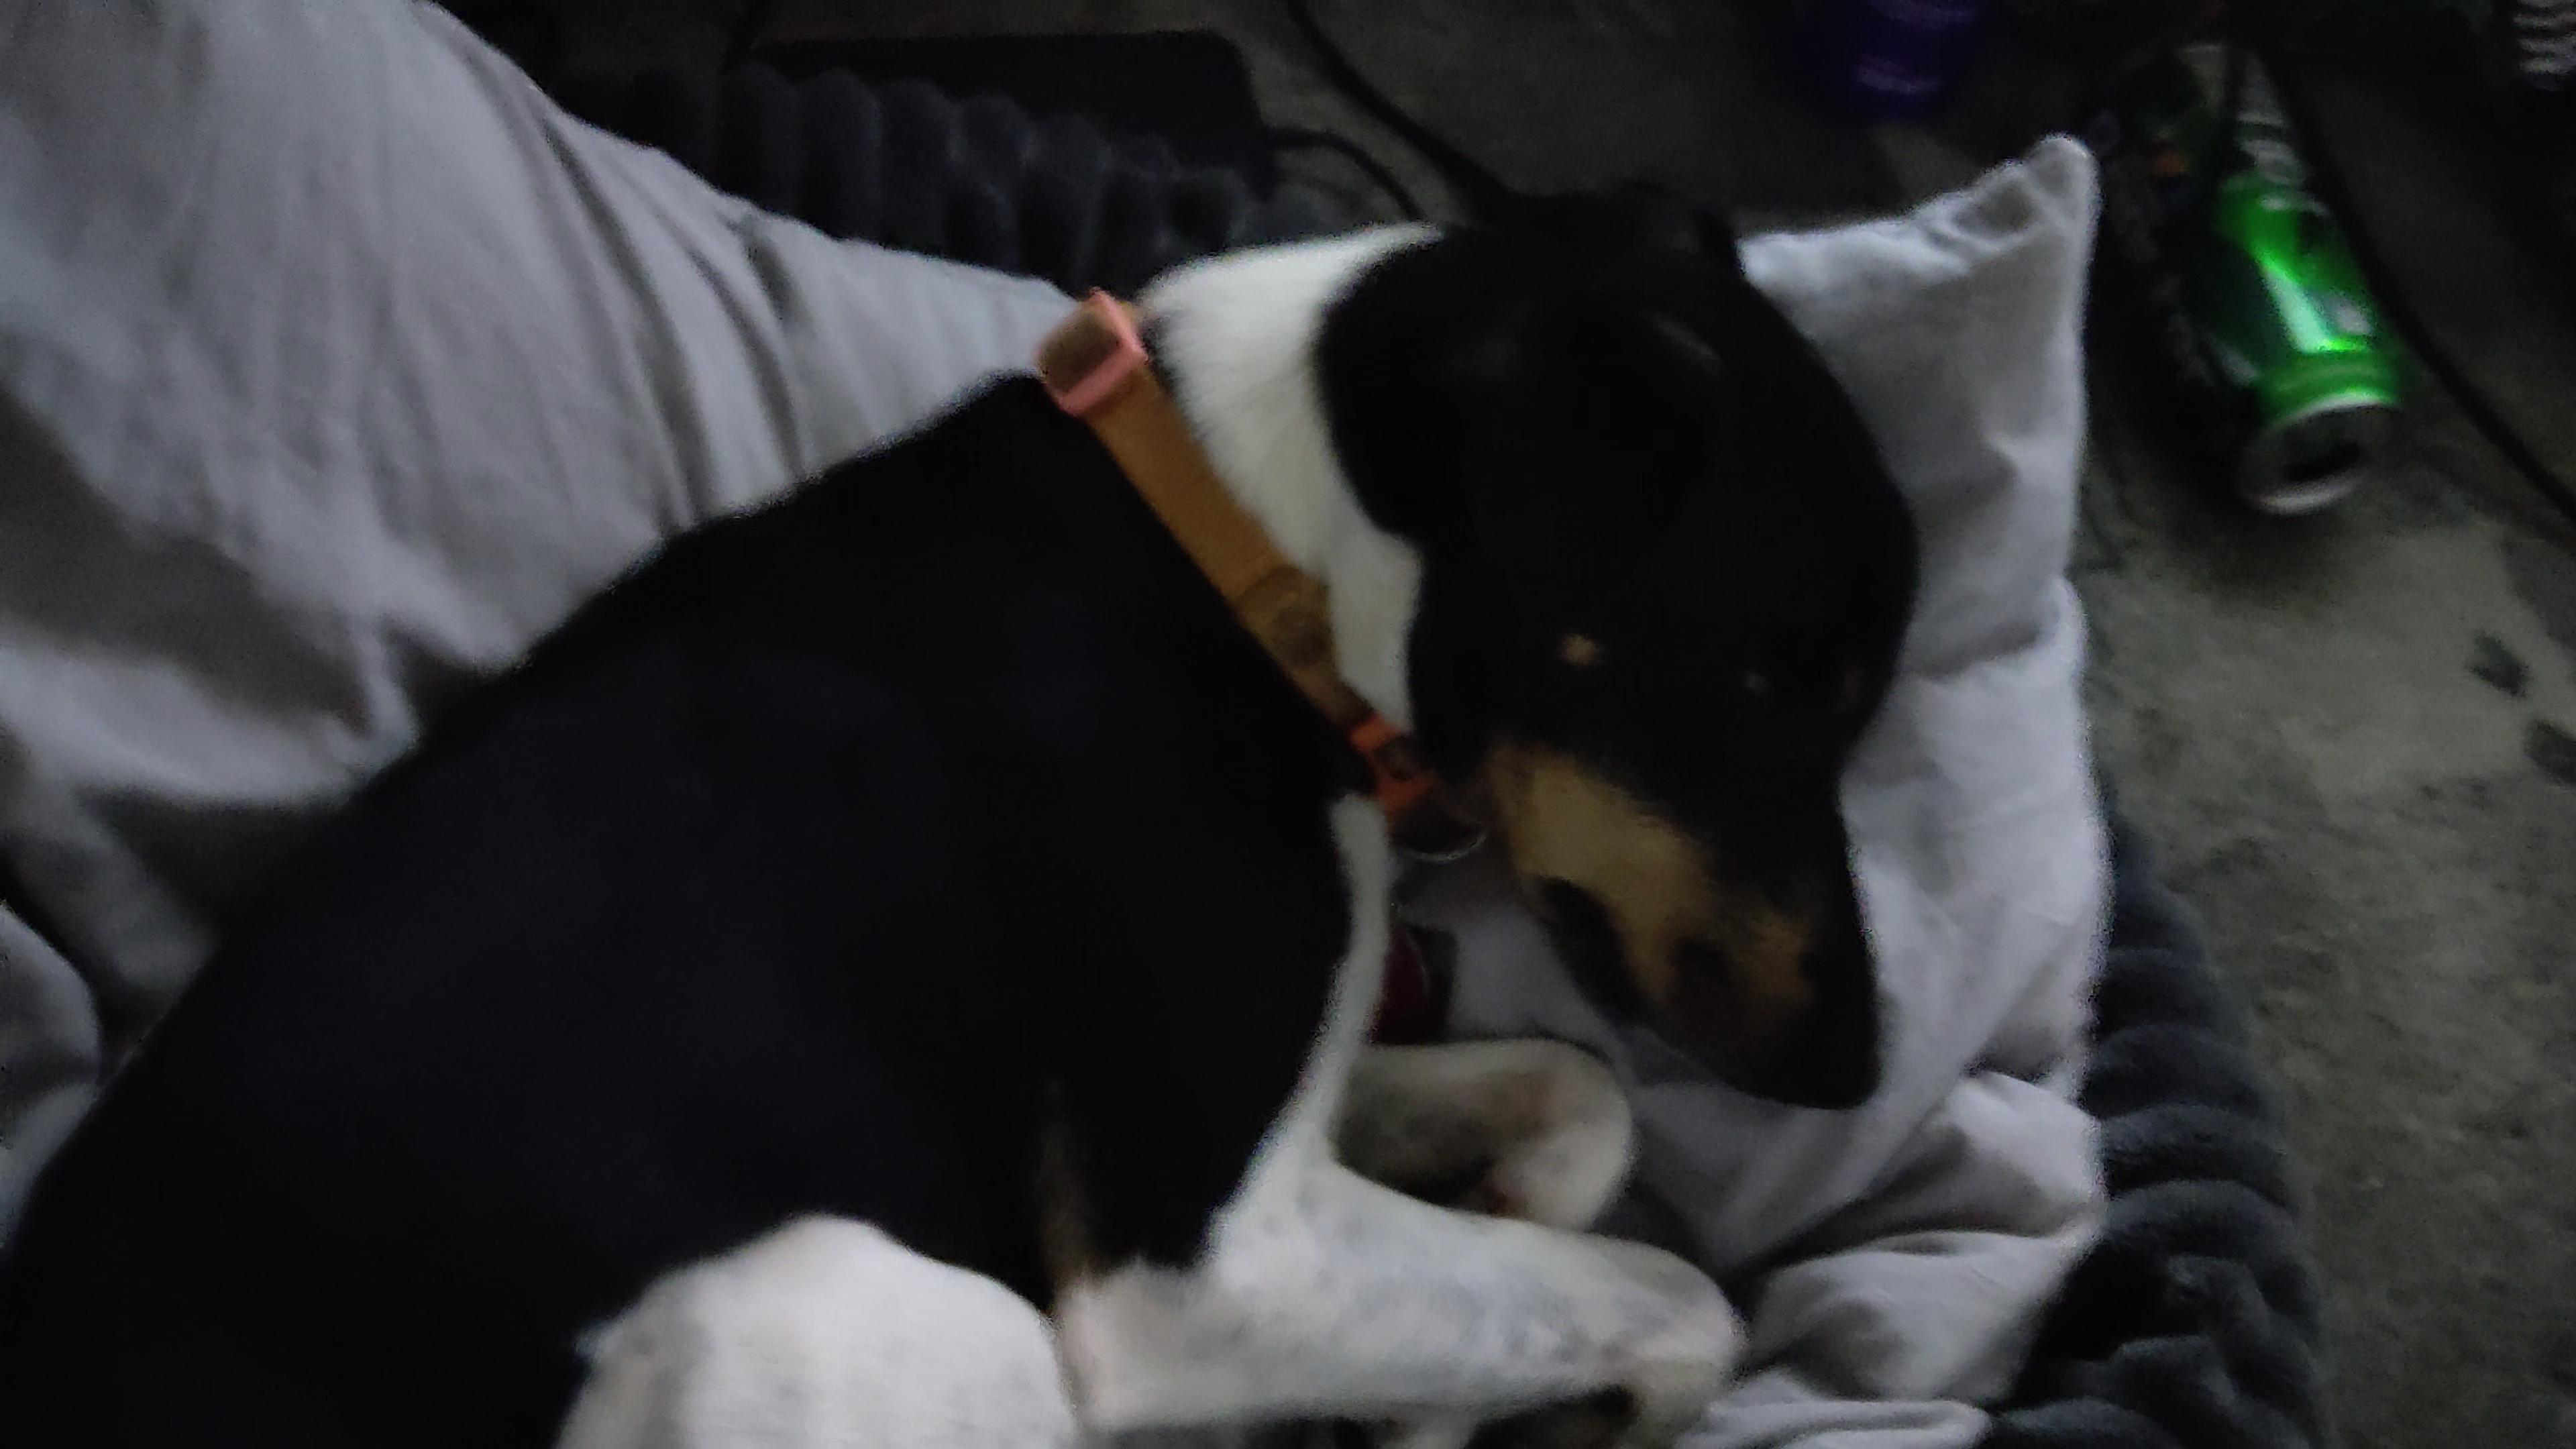Dog: (0, 147, 1973, 1449)
